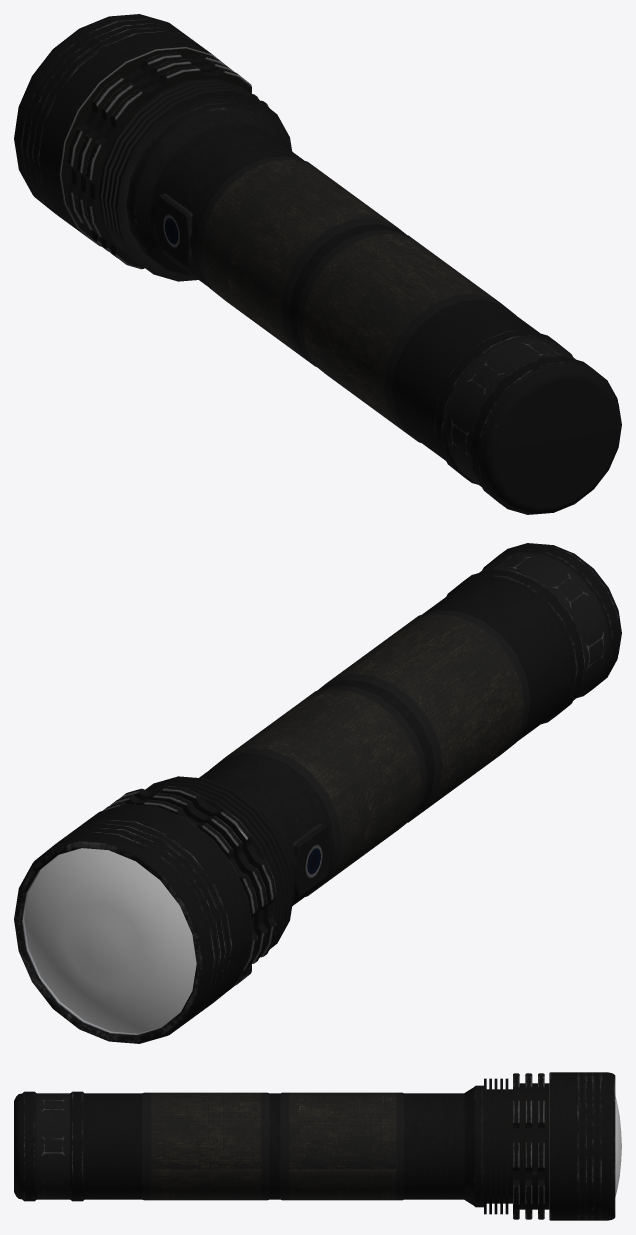
Rendered from flash-light.glb.
3 renders of one model, top to bottom at view 1: azimuth 30°, elevation 25°; view 2: azimuth 150°, elevation 25°; view 3: azimuth 270°, elevation 25°, orthographic. The views are drawn at different scales.
Visible parts, largest first — view 1: Flashlight_Low.001_Cylinder.000; view 2: Flashlight_Low.001_Cylinder.000; view 3: Flashlight_Low.001_Cylinder.000.
Boxes of the visible parts, left/top/right/bottom form: Flashlight_Low.001_Cylinder.000: left=14, top=14, right=621, bottom=514; Flashlight_Low.001_Cylinder.000: left=14, top=543, right=621, bottom=1043; Flashlight_Low.001_Cylinder.000: left=14, top=1072, right=621, bottom=1220.
Bounding box in the file's own units: 0.1093 × 0.1093 × 0.4454.
Materials: 2 (1 with a texture image).
